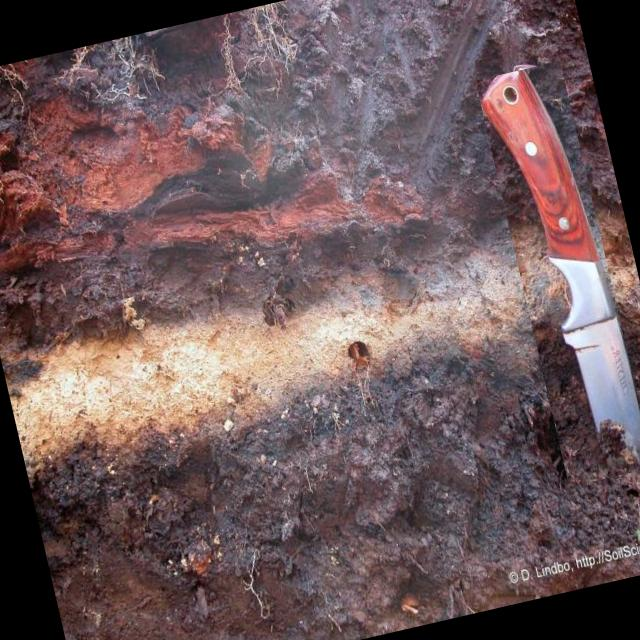Knife: (481, 70, 640, 461)
